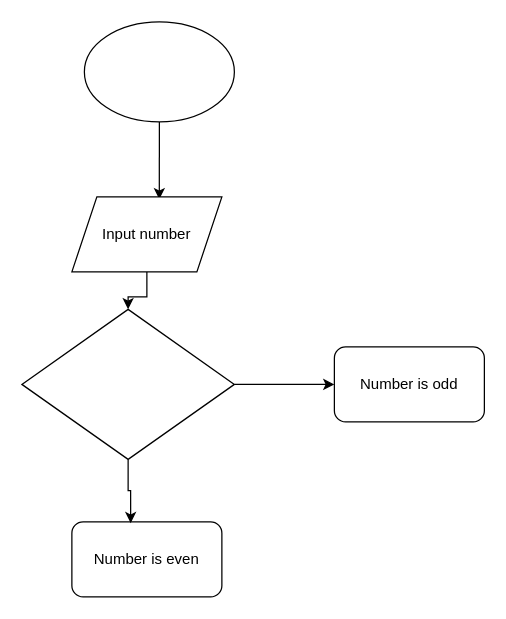
The diagram is 506 pixels wide and 619 high, and some of its shapes have lost their labels. The centre of each missing label's shape, as x and y in pixels:
Check if remainder of number divided by 2 is equal to 0: point (127, 383)
START: point (158, 71)
